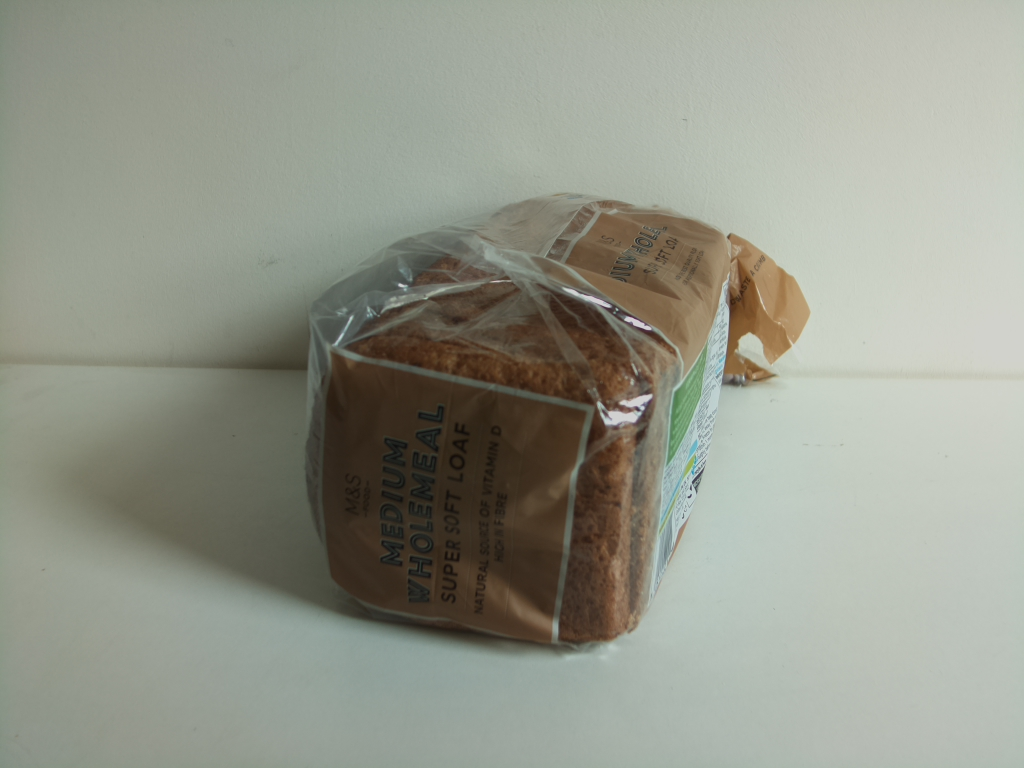bread: (303, 194, 815, 654)
